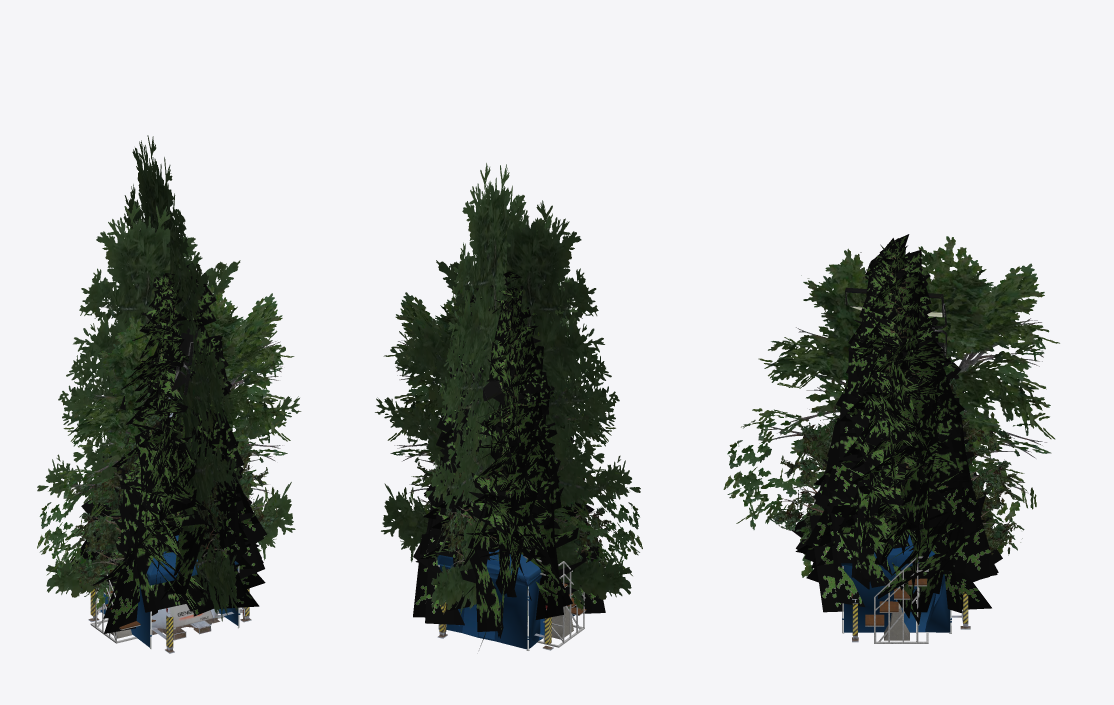
The model's file is trackside.glb.
3 views of the same model, side by side, from view 1: azimuth 30°, elevation 25°; view 2: azimuth 150°, elevation 25°; view 3: azimuth 270°, elevation 25° (orthographic). The views are drawn at different scales.
Parts seen in each view (by area): view 1: PineBillboard, MapleFall, Tree-2_2, Tree_0, Tree-1_1, Crabapple, Tent_M_Tent_0 (×2), Object_2, Object_6, Frame_1, Object_5; view 2: PineBillboard, Tree_0, Tree-1_1, Tree-2_2, MapleFall, Tent_M_Tent_0 (×2), Crabapple, Frame_1; view 3: MapleFall, Tree_0, Tree-2_2, Tree-1_1, Crabapple, Tent_M_Tent_0, Frame_1, Seat_0, Object_6.
Boxes of the visible parts, x1,y1,x2,y2 form: PineBillboard: (37, 135, 301, 621); MapleFall: (37, 285, 294, 609); Tree-2_2: (97, 262, 266, 618); Tree_0: (70, 264, 265, 633); Tree-1_1: (81, 274, 261, 616); Crabapple: (66, 407, 278, 592); Tent_M_Tent_0 (×2): (98, 535, 240, 649); Object_2: (98, 363, 251, 640); Object_6: (165, 328, 197, 653); Frame_1: (90, 544, 242, 643); Object_5: (88, 397, 244, 634); PineBillboard: (375, 163, 640, 614); Tree_0: (425, 271, 606, 626); Tree-1_1: (415, 277, 581, 648); Tree-2_2: (413, 285, 591, 638); MapleFall: (383, 285, 642, 610); Tent_M_Tent_0 (×2): (437, 549, 574, 650); Crabapple: (409, 414, 616, 575); Frame_1: (523, 556, 585, 647); MapleFall: (723, 236, 1059, 577); Tree_0: (791, 234, 1002, 624); Tree-2_2: (795, 241, 998, 618); Tree-1_1: (804, 238, 988, 598); Crabapple: (768, 376, 1027, 555); Tent_M_Tent_0: (844, 534, 951, 632); Frame_1: (865, 556, 928, 643); Seat_0: (865, 578, 926, 625); Object_6: (844, 287, 947, 357).
Size of the model in its own units: 10.08 by 17 by 10.79.
17 materials, 12 textured.
